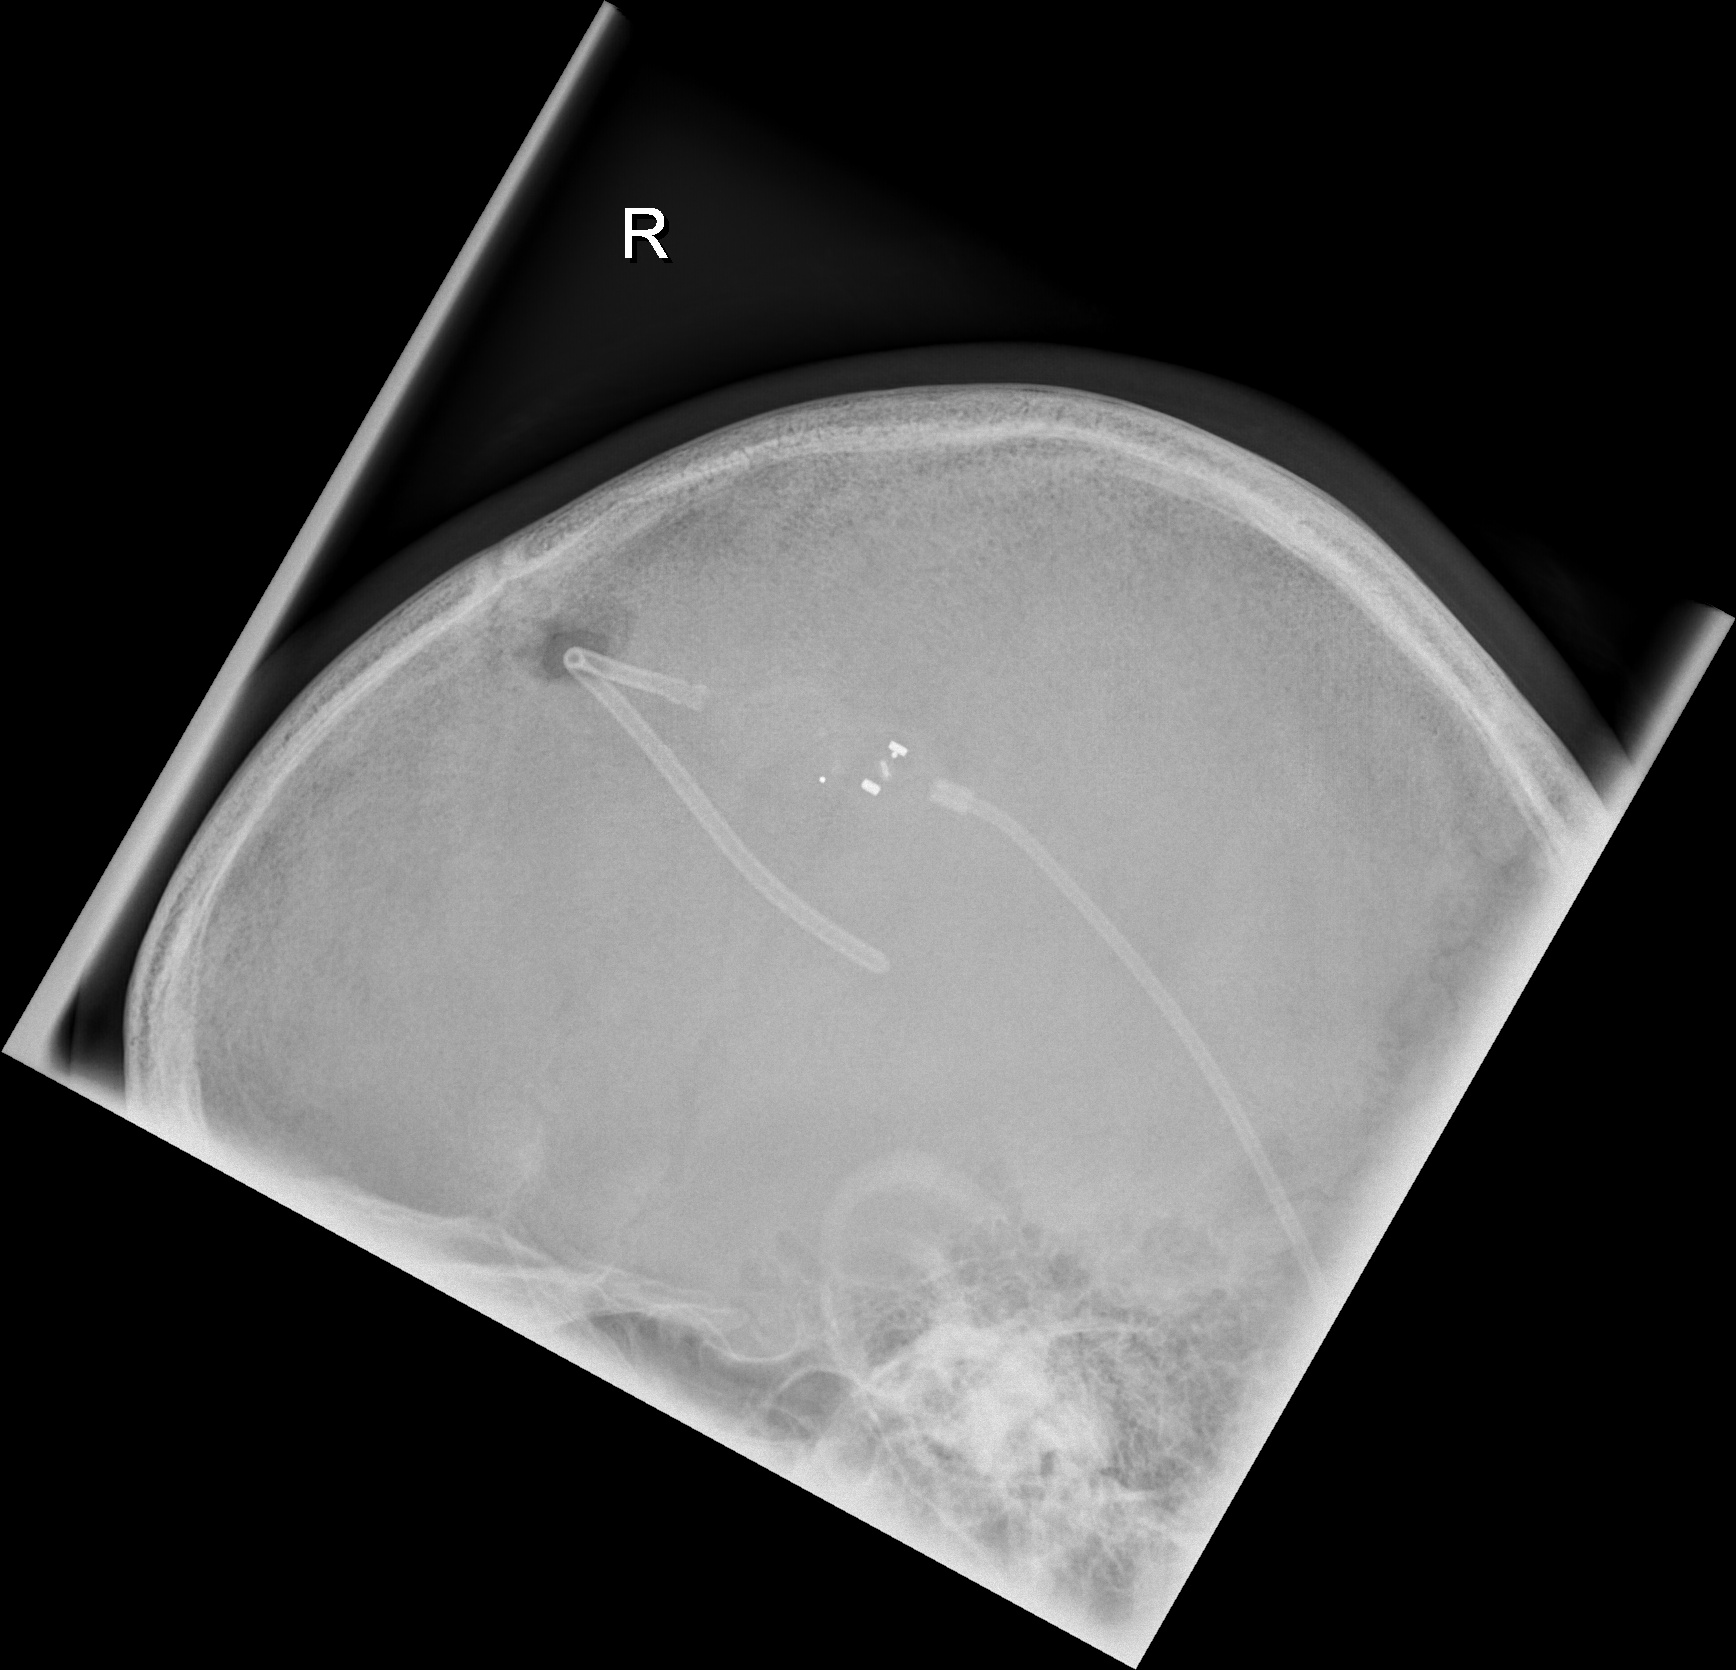Codman Certas: (814, 718, 918, 813)
